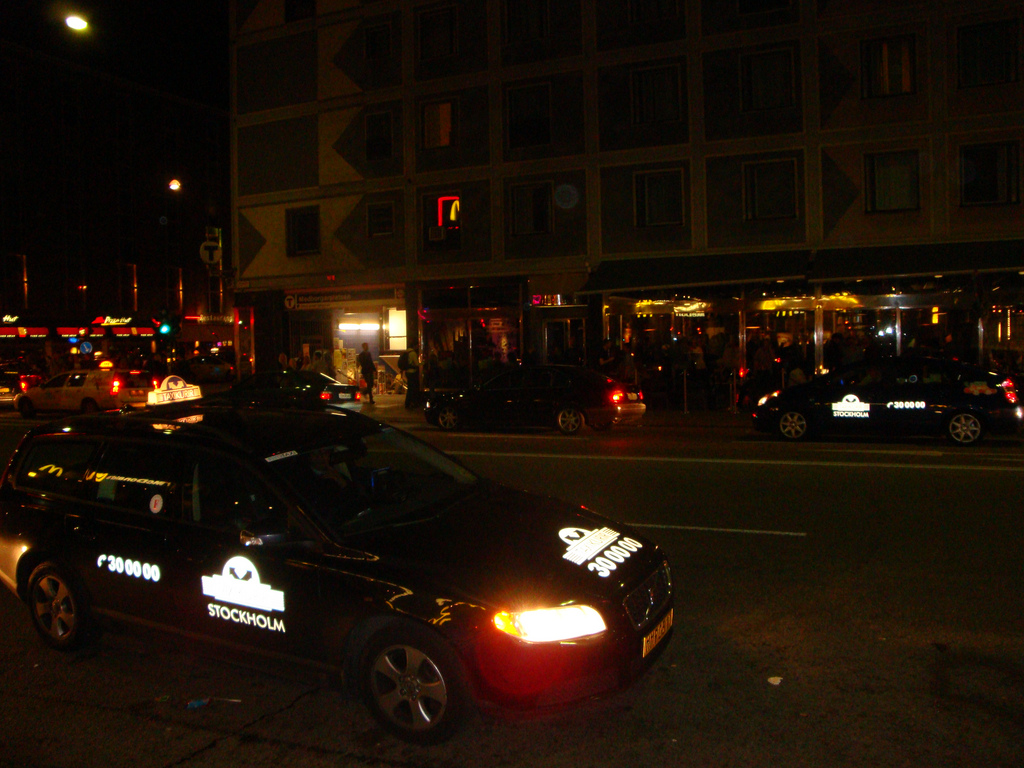car: (15, 398, 703, 752)
